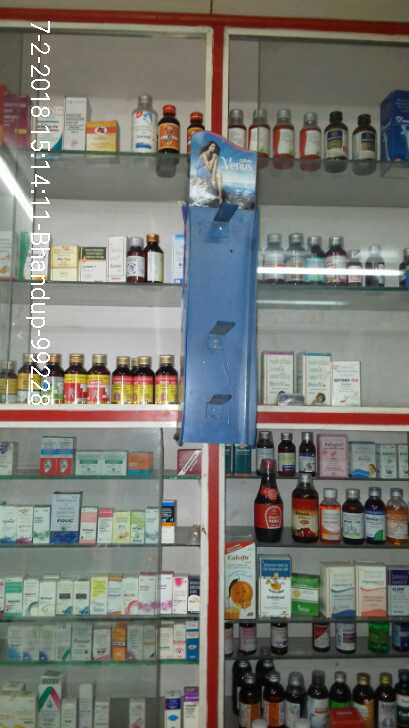reject: (194, 215, 249, 426)
